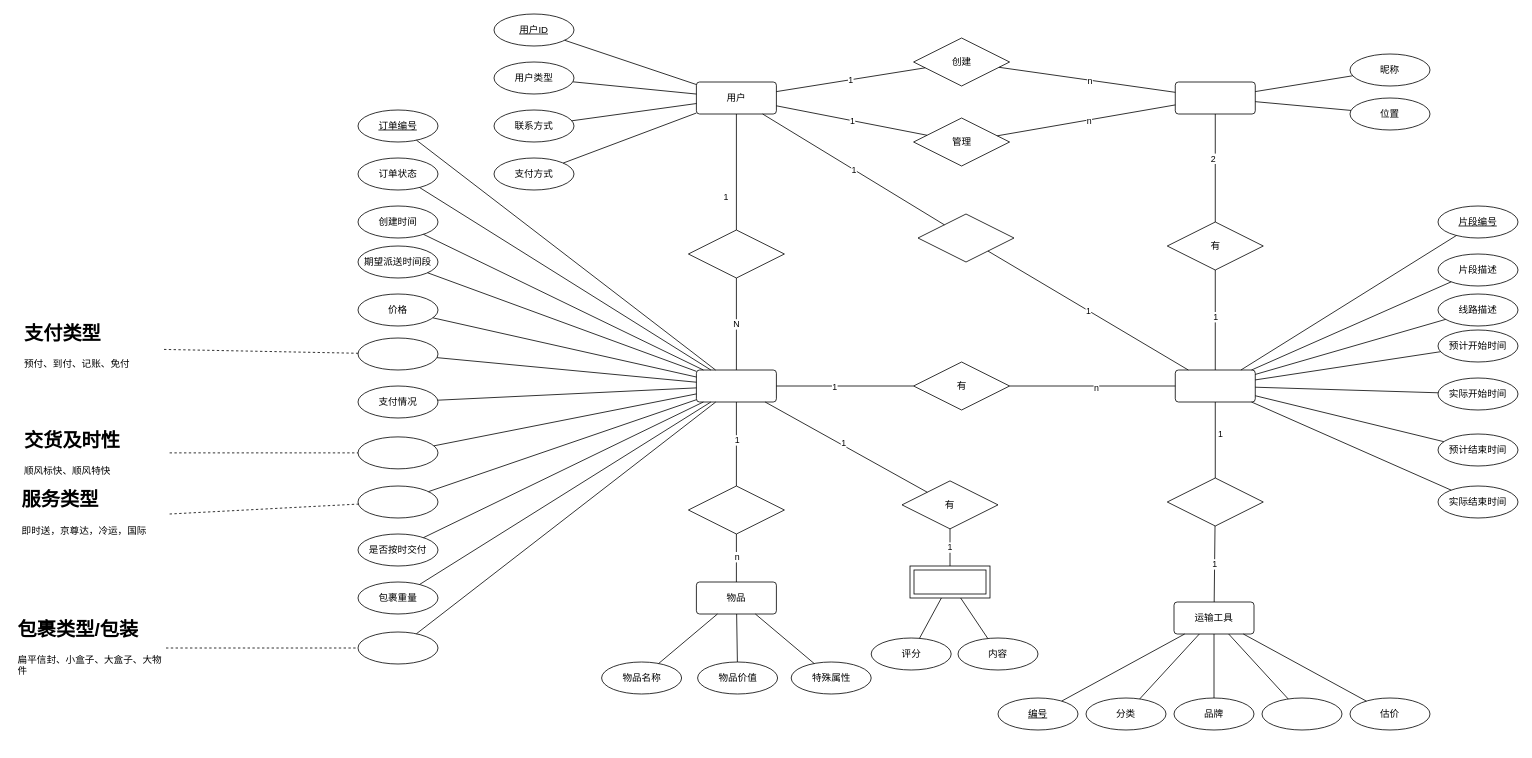
Image size: 1532x758. Some labels were removed from this diagram. The shapes that lost their labels are listed below. From the top down, each one's centre as x and y in pixels, then its label:
At [1214,97]: "运输结点".
At [736,253]: "拥有".
At [965,237]: "负责".
At [397,353]: "支付类型".
At [736,385]: "运输订单".
At [1214,385]: "运输片段".
At [397,452]: "交货及时性".
At [397,501]: "服务类型".
At [736,509]: "包含".
At [1214,501]: "使用".
At [949,581]: "评价".
At [397,647]: "包装规模".
At [1301,713]: "牌号".
